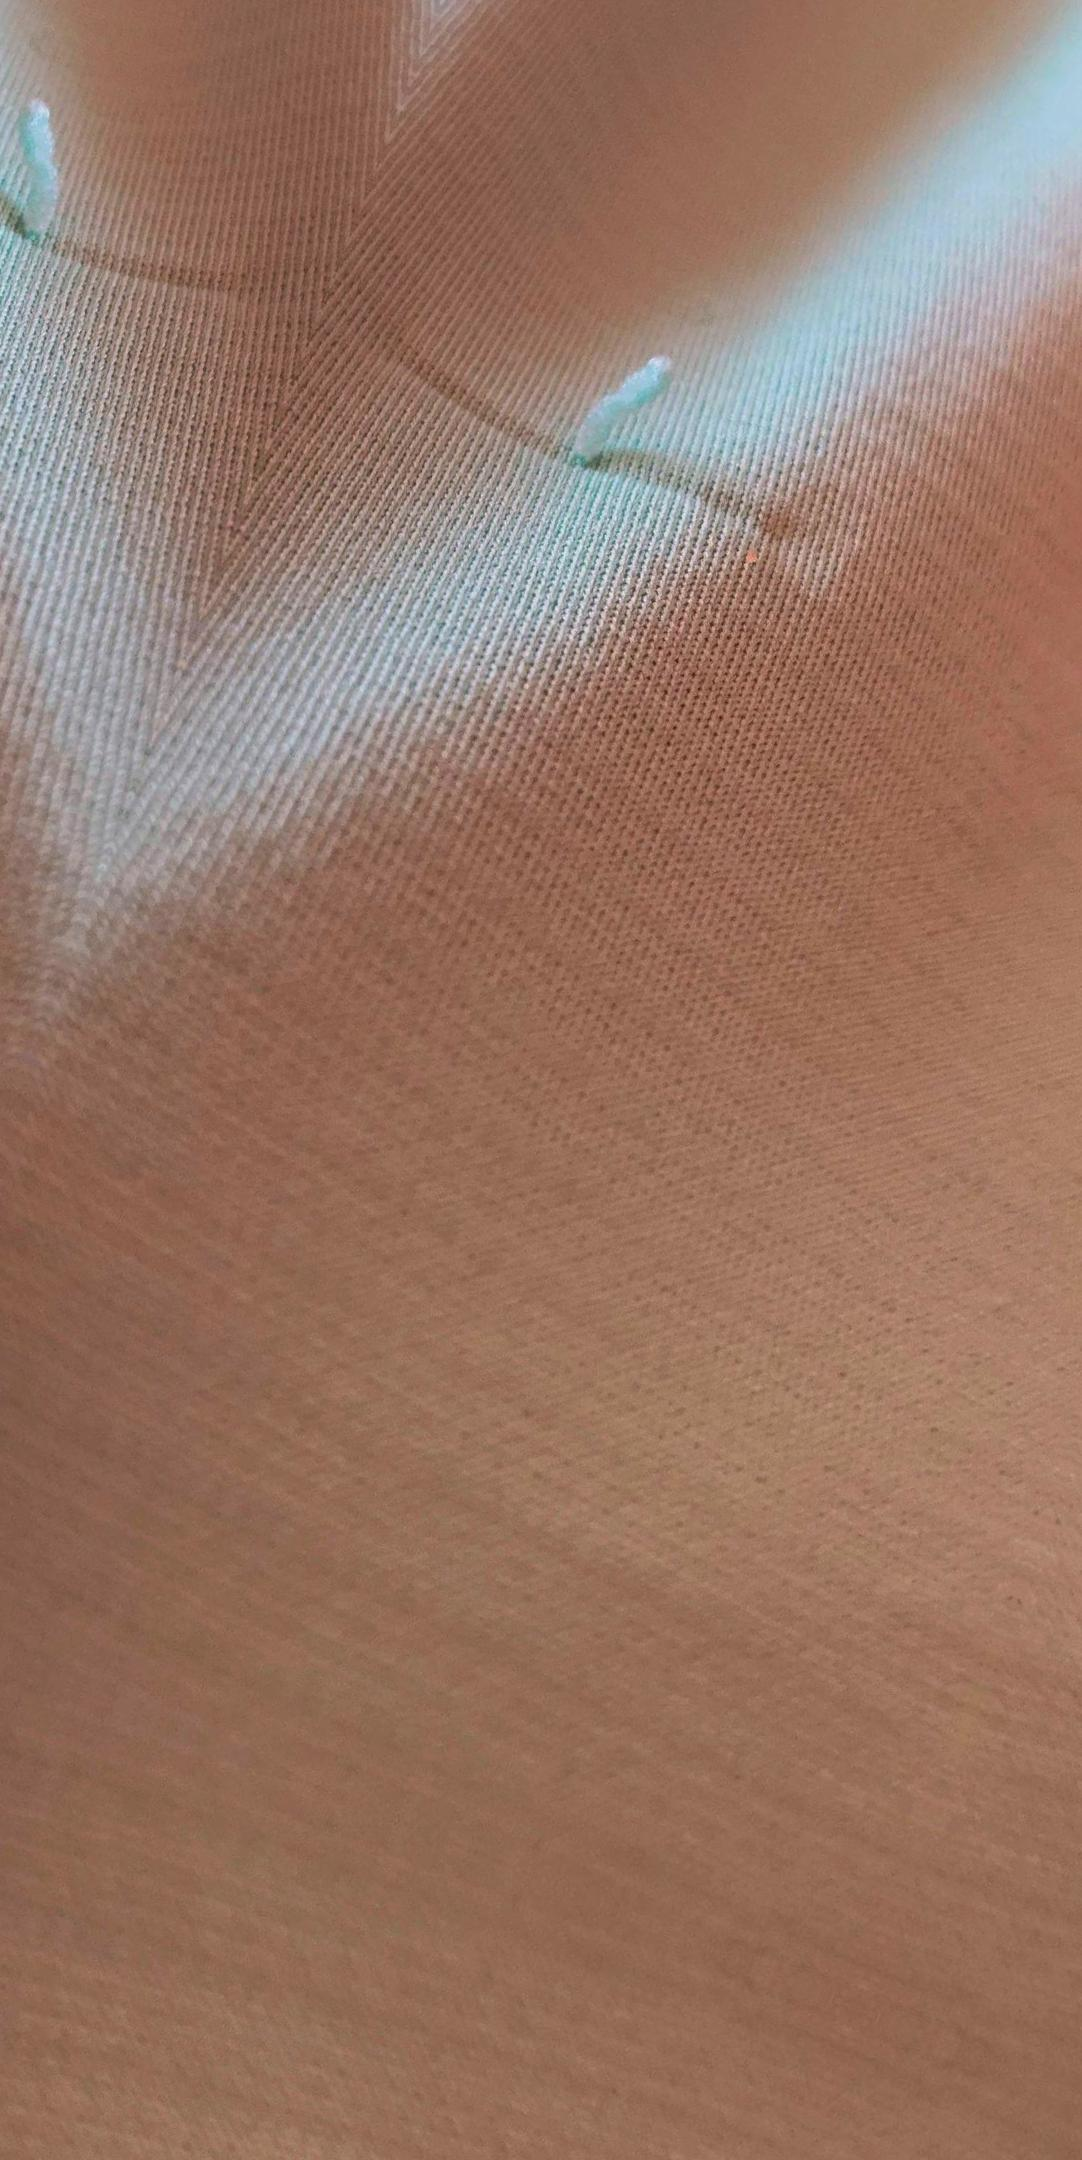snag: (490, 314, 696, 549), (10, 88, 99, 290)
